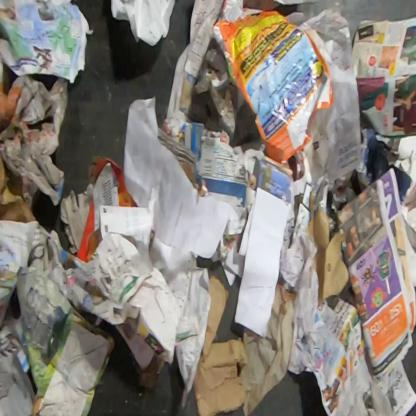cardboard: (0, 222, 117, 415), (193, 273, 249, 416), (182, 120, 248, 237), (75, 154, 138, 262), (307, 202, 350, 306), (59, 187, 88, 257)
